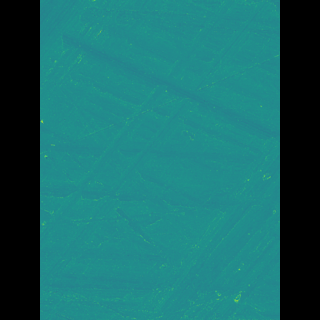Loch: (68, 0, 240, 299), (140, 135, 250, 320)
